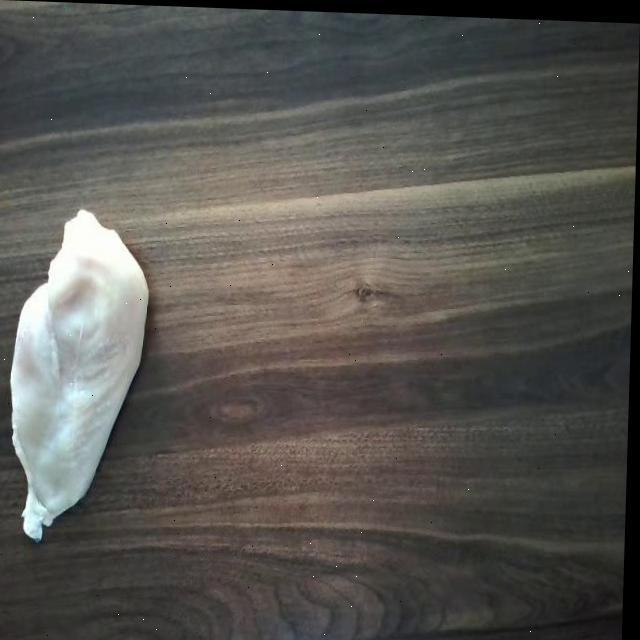breast: (10, 205, 154, 552)
